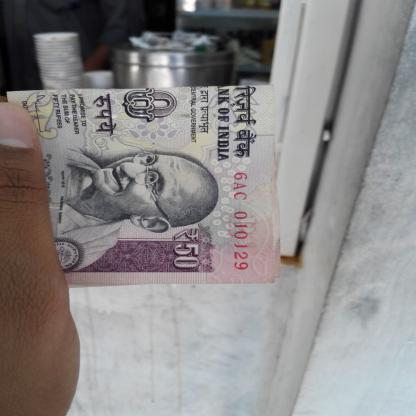Old50Front: (6, 86, 280, 286)
